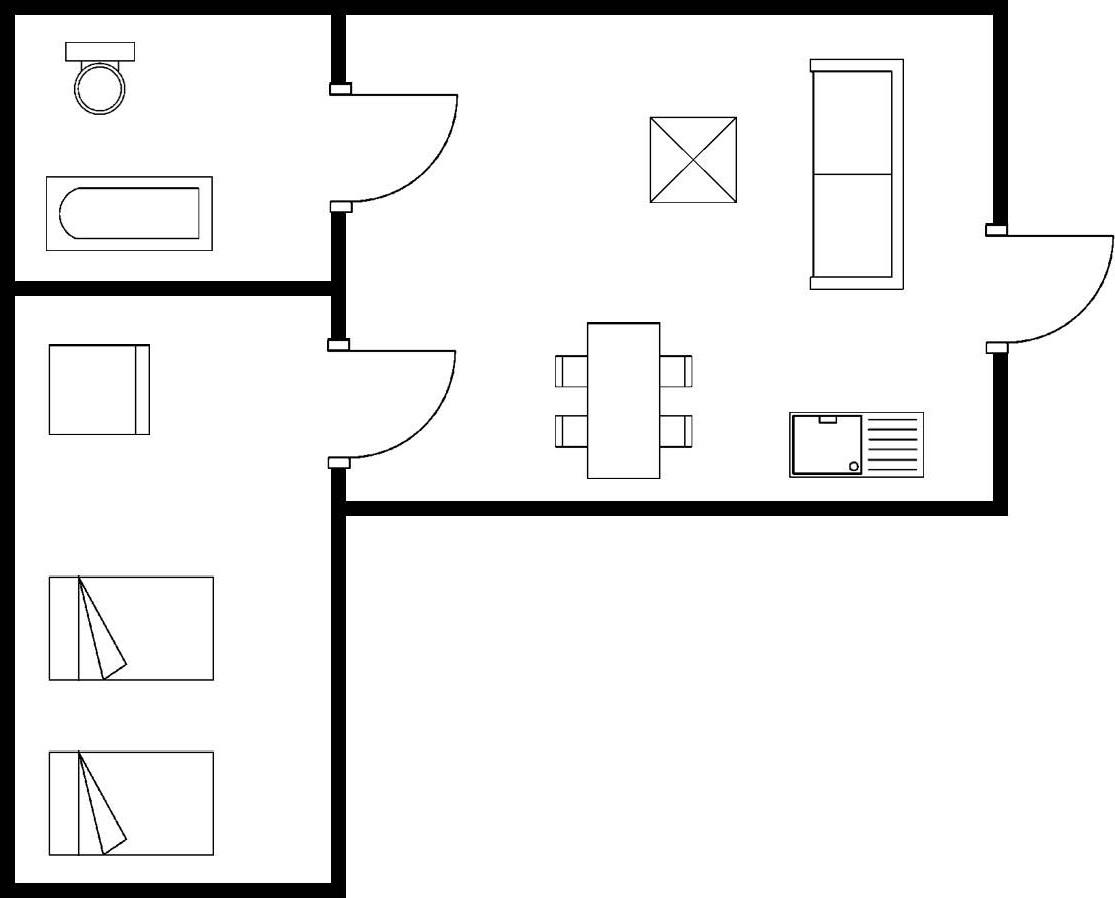bed: (40, 742, 219, 862), (43, 568, 219, 687)
dining_table: (547, 316, 699, 484)
sink: (782, 406, 927, 483)
sofa: (800, 51, 908, 296)
toilet: (59, 35, 140, 119)
tub: (37, 168, 220, 257)
